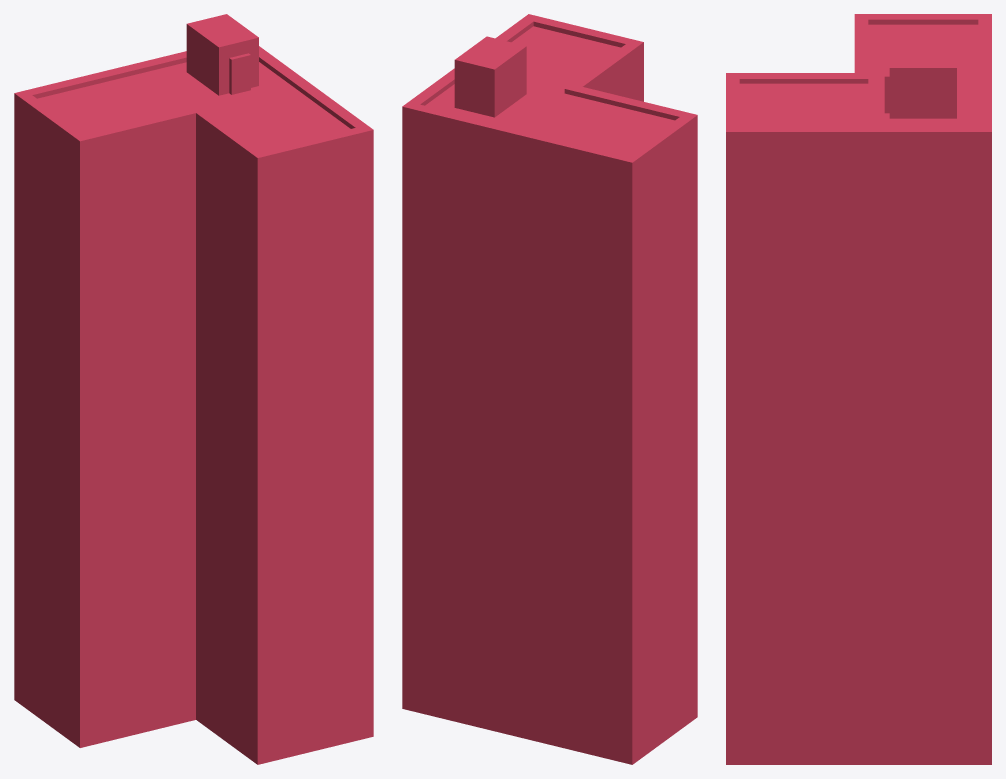
File: Building3_red.fbx
The picture shows the model from 3 angles, left to right: view 1: azimuth 30°, elevation 25°; view 2: azimuth 150°, elevation 25°; view 3: azimuth 270°, elevation 25°; orthographic projection. The views are drawn at different scales.
Visible parts, largest first — view 1: Building 3; view 2: Building 3; view 3: Building 3.
Part boxes in pixels (bbox=[...]): Building 3: bbox=[14, 14, 373, 764]; Building 3: bbox=[402, 14, 697, 764]; Building 3: bbox=[726, 14, 991, 764].
Bounding box in the file's own units: 1368 × 3664 × 1302.
Materials: 1 (1 with a texture image).
